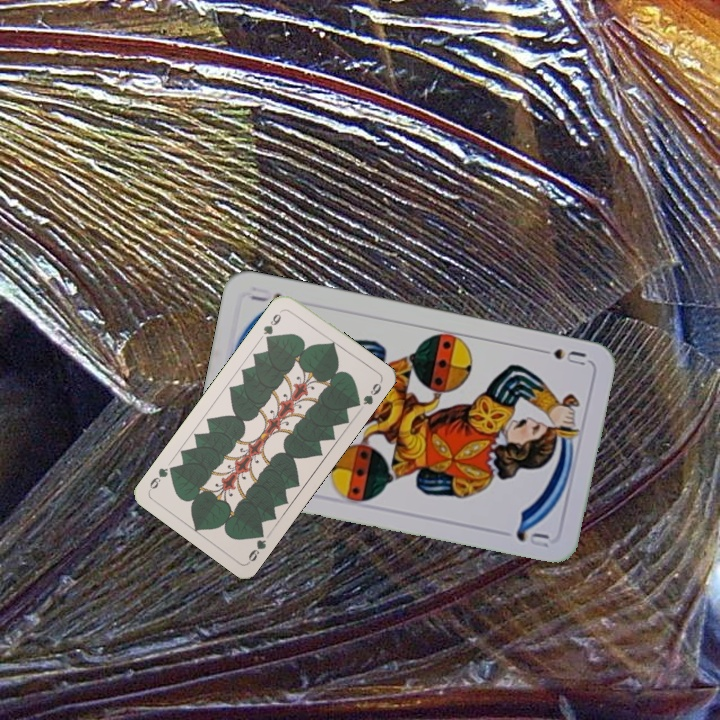G9: (259, 306, 286, 344), (244, 526, 269, 565)
SU: (532, 344, 588, 368)
